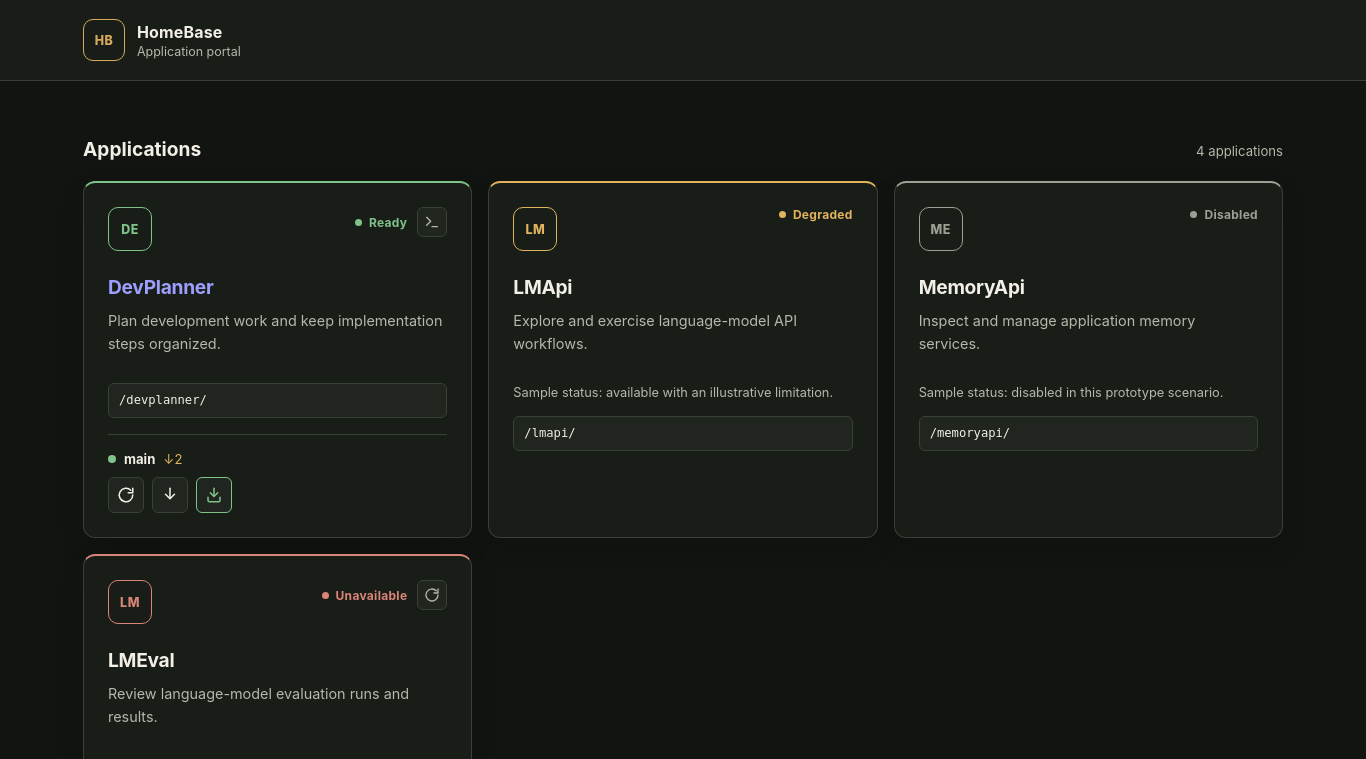
it: dashboard application › retries an unavailable application and follows it through to ready
Expected: the text "Unavailable" is shown, 322,588 -> 407,603
Click the button named "Retry loading LMEval".
click(432, 595)  # box 417,580 -> 447,610
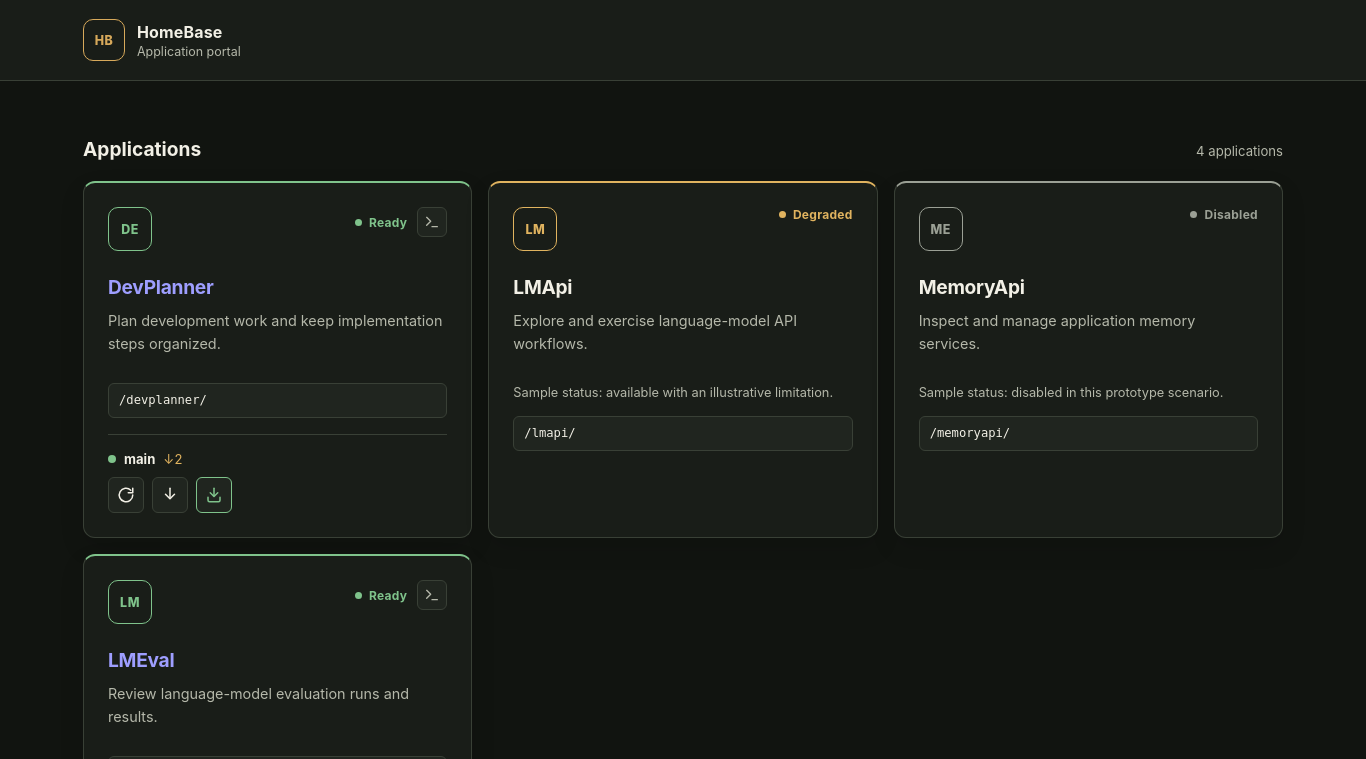
Result: the text "Ready" is shown at 355,588 -> 407,603
